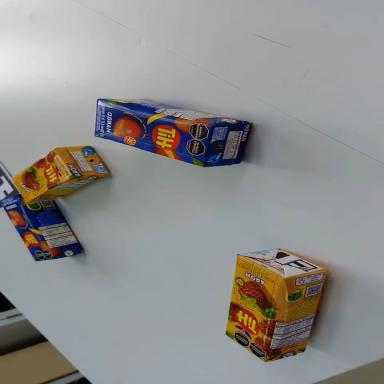HIT-MANGO: (89, 91, 253, 175), (0, 177, 85, 276)
HIT-MORA: (223, 242, 329, 368), (8, 131, 111, 213)
cara_F: (88, 99, 212, 167), (215, 255, 287, 362), (1, 192, 55, 268), (10, 147, 75, 209)
